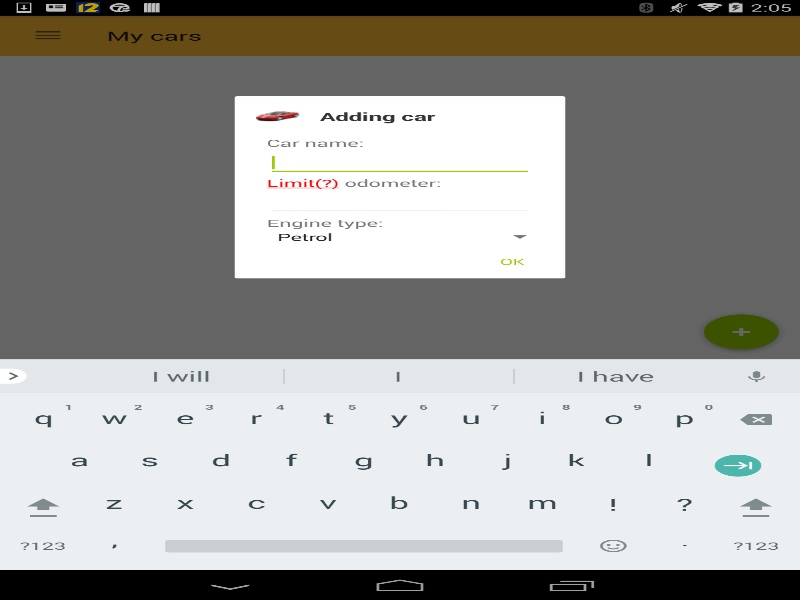Button: (469, 244, 554, 278)
Input: (266, 149, 533, 176), (266, 189, 533, 216)
